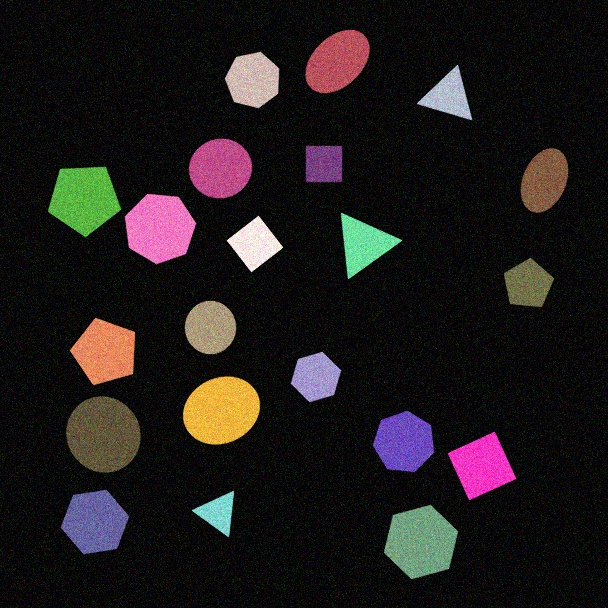Circulo: (65, 396, 142, 473), (188, 138, 253, 199), (184, 300, 237, 355)
Elipse: (182, 376, 261, 445), (305, 29, 370, 94), (520, 147, 569, 214)
Heptagono: (124, 193, 197, 265), (372, 410, 435, 473), (224, 51, 280, 109)
Hexagono: (383, 504, 459, 580), (60, 489, 130, 555), (290, 351, 342, 403)
Pentagono: (47, 166, 122, 238), (69, 317, 136, 386), (503, 257, 555, 308)
Quadrado: (447, 431, 517, 501), (226, 215, 284, 273), (305, 145, 343, 183)
Triangulo: (340, 212, 403, 280), (417, 64, 473, 121), (192, 490, 235, 538)
